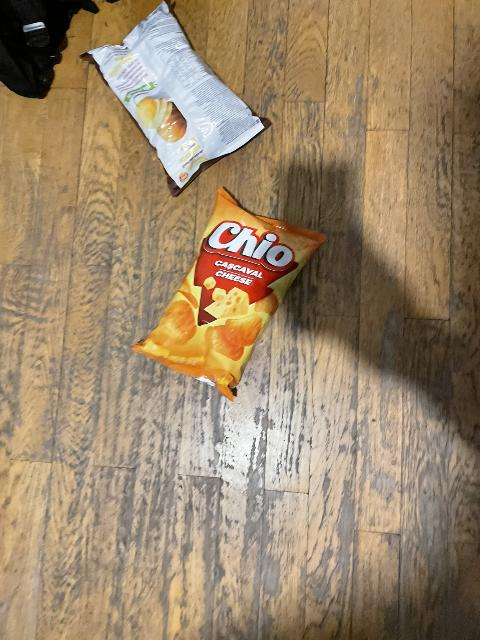Chio Cascaval 125g: (131, 191, 333, 396)
Lays Beef Grilled Ribs 125g: (84, 4, 271, 193)
